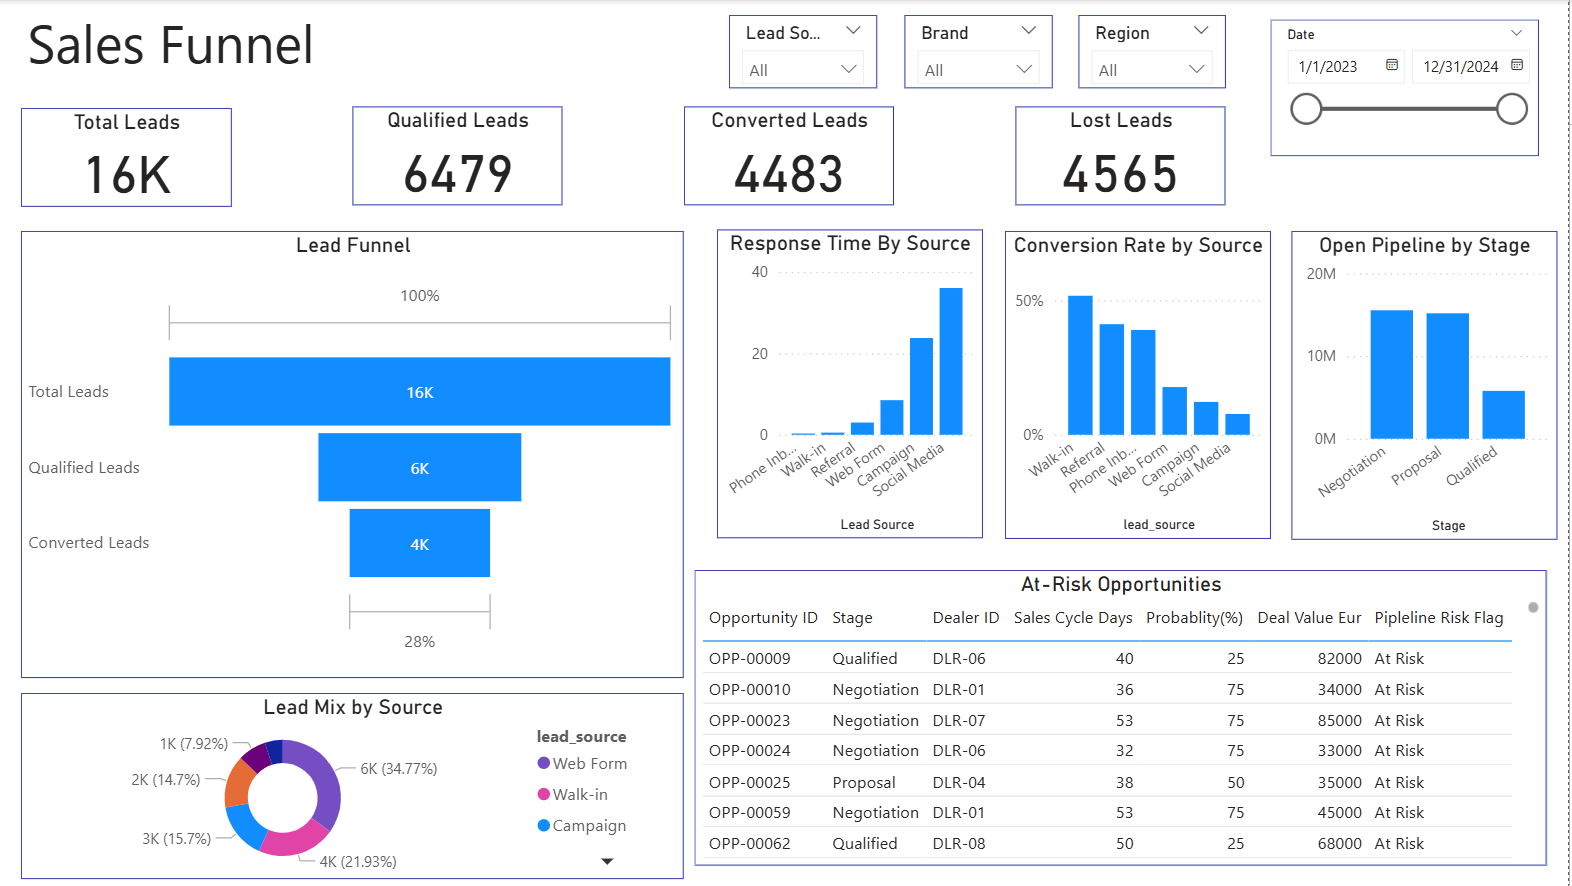

The page's visual inventory and layout, read from the dashboard file:
{"tool":"powerbi","page":{"name":"Sales Funnel","canvas":[1280,720],"ordinal":1},"visuals":[{"type":"textbox","box":[26.4,0,290.9,86.6],"z":0},{"type":"card","title":"Total Leads","fields":{"Values":["fct_sales_funnel.Total Leads"]},"box":[26.7,86.9,170.3,80],"z":1000},{"type":"card","title":"Qualified Leads","fields":{"Values":["fct_sales_funnel.Qualified Leads"]},"box":[295.4,86.3,170,79.9],"z":2000},{"type":"card","title":"Converted Leads","fields":{"Values":["fct_sales_funnel.Converted Leads"]},"box":[563.8,86.3,170,79.9],"z":3000},{"type":"card","title":"Lost Leads","fields":{"Values":["fct_sales_funnel.Lost Leads"]},"box":[832.2,86.3,170,79.9],"z":4000},{"type":"columnChart","title":"Conversion Rate by Source","fields":{"Category":["fct_sales_funnel.lead_source"],"Y":["fct_sales_funnel.Lead to Opportunity Rate"]},"box":[823.6,187.1,215,249],"z":5000},{"type":"columnChart","title":"Response Time By Source","fields":{"Category":["fct_sales_funnel.lead_source"],"Y":["fct_sales_funnel.Avg First Response Hours"]},"box":[590.4,185.9,215,250.3],"z":6000},{"type":"columnChart","title":"Open Pipeline by Stage","fields":{"Category":["fct_pipeline.stage"],"Y":["fct_pipeline.Weighted Pipeline Value"]},"box":[1055.7,187.1,215,250.3],"z":7000},{"type":"slicer","fields":{"Values":["raw_dim_date.full_date"]},"box":[1038.7,15.8,217.5,110.5],"z":8000},{"type":"slicer","fields":{"Values":["fct_sales_funnel.region"]},"box":[883.2,12.1,119.1,59.5],"z":9000},{"type":"slicer","fields":{"Values":["raw_dim_vehicle.brand"]},"box":[742.3,12.1,120.3,59.5],"z":10000},{"type":"slicer","fields":{"Values":["fct_sales_funnel.lead_source"]},"box":[600.1,12.1,120.3,59.5],"z":11000},{"type":"tableEx","title":"At-Risk Opportunities","fields":{"Values":["fct_pipeline.opportunity_id","fct_pipeline.stage","fct_pipeline.dealer_id","Sum(fct_pipeline.sales_cycle_days)","Sum(fct_pipeline.probability_pct)","fct_pipeline.deal_value_eur","fct_pipeline.Pipeline Risk Flag"]},"box":[572.2,461.6,690,239.3],"z":12000},{"type":"funnel","title":"Lead Funnel","fields":{"Y":["fct_sales_funnel.Total Leads","fct_sales_funnel.Qualified Leads","fct_sales_funnel.Converted Leads"]},"box":[26.7,187.1,536.9,362],"z":13000},{"type":"donutChart","title":"Lead Mix by Source","fields":{"Category":["fct_sales_funnel.lead_source"],"Y":["fct_sales_funnel.Total Leads"]},"box":[26.7,561.2,536.9,150.6],"z":14000}]}

Visuals, with their boxes in screenshot pixels (x1, y1, x2, y2), scaled from the page's 1280x720 canvas onto the 1572x886 screenshot:
textbox: (32,0,390,107)
"Total Leads" card: (33,107,242,205)
"Qualified Leads" card: (363,106,572,205)
"Converted Leads" card: (692,106,901,205)
"Lost Leads" card: (1022,106,1231,205)
"Conversion Rate by Source" columnChart: (1011,230,1276,537)
"Response Time By Source" columnChart: (725,229,989,537)
"Open Pipeline by Stage" columnChart: (1297,230,1561,538)
slicer - raw_dim_date.full_date: (1276,19,1543,155)
slicer - fct_sales_funnel.region: (1085,15,1231,88)
slicer - raw_dim_vehicle.brand: (912,15,1059,88)
slicer - fct_sales_funnel.lead_source: (737,15,885,88)
"At-Risk Opportunities" tableEx: (703,568,1550,862)
"Lead Funnel" funnel: (33,230,692,676)
"Lead Mix by Source" donutChart: (33,691,692,876)
